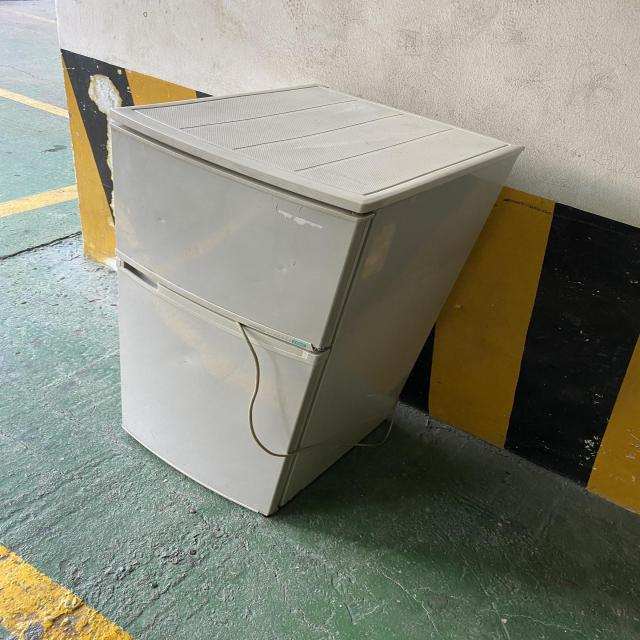refrigerator: (104, 83, 530, 518)
